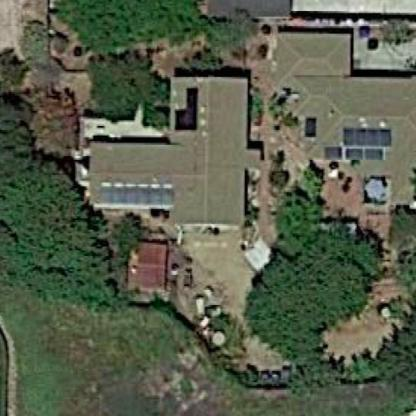solar_panel: (95, 174, 178, 213), (322, 125, 395, 164), (172, 79, 206, 140)
